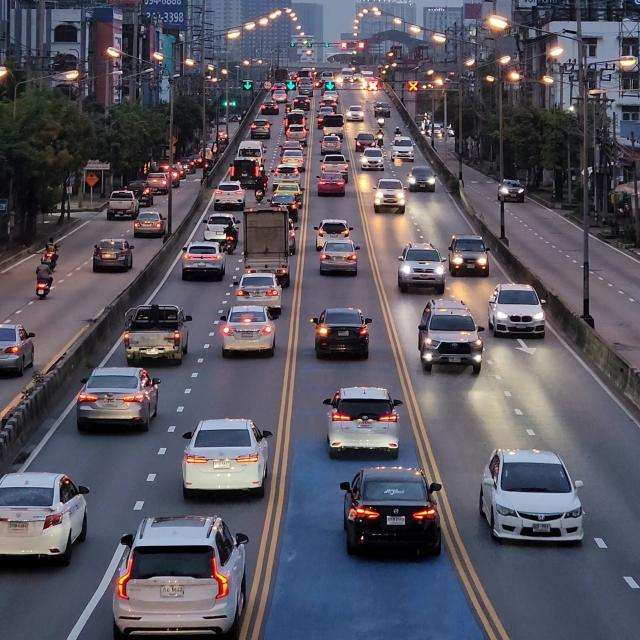Car: (112, 513, 251, 639), (339, 466, 448, 566), (481, 450, 590, 546), (0, 471, 100, 564), (182, 413, 274, 501), (75, 364, 165, 435), (323, 384, 402, 462), (421, 298, 484, 373), (122, 301, 192, 365), (242, 205, 294, 286), (486, 281, 548, 339), (216, 304, 278, 361), (312, 306, 371, 363), (396, 240, 449, 295), (447, 232, 494, 278), (234, 273, 287, 313), (183, 238, 227, 282), (371, 180, 414, 218), (95, 237, 135, 274), (323, 237, 361, 275), (134, 208, 169, 241), (407, 164, 439, 194)
